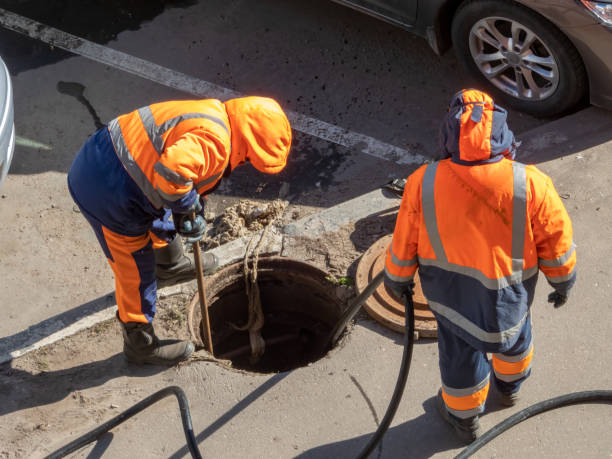open_manhole: (188, 239, 349, 375)
